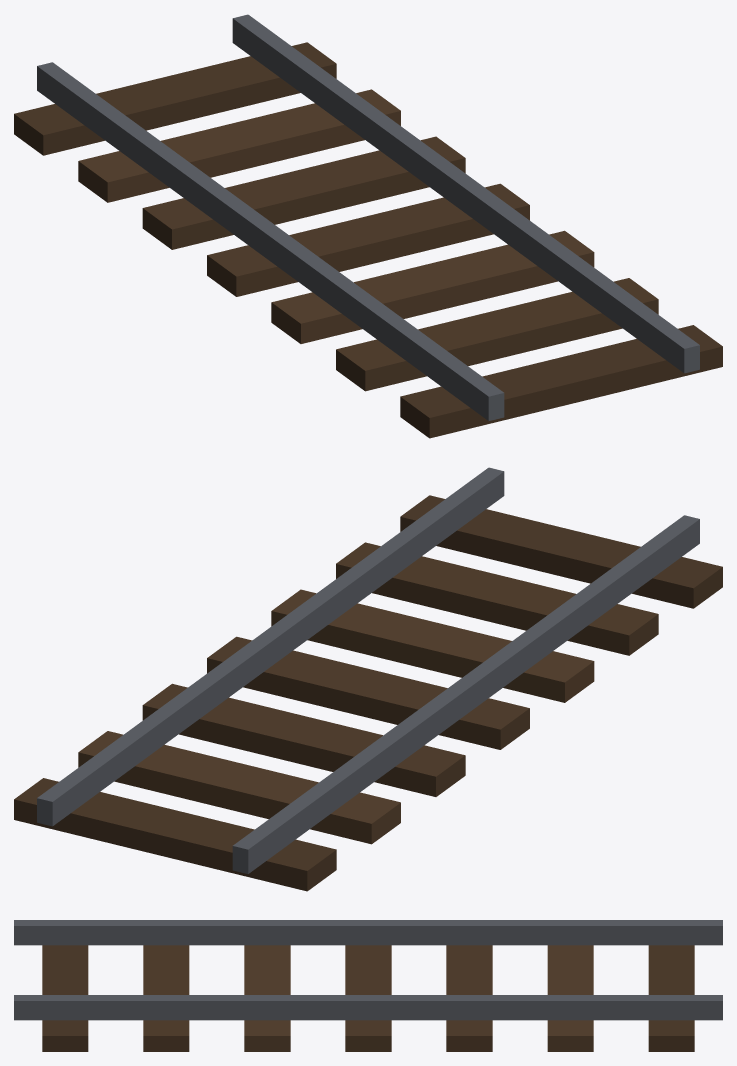
Rendered from rail-straight.glb.
3 views of the same model, one above another, from view 1: azimuth 30°, elevation 25°; view 2: azimuth 150°, elevation 25°; view 3: azimuth 270°, elevation 25° (orthographic). The views are drawn at different scales.
Parts seen in each view (by area): view 1: rail-straight; view 2: rail-straight; view 3: rail-straight.
Part boxes in pixels (box(x1,y1,x2,y2)): rail-straight: box(14, 14, 722, 438); rail-straight: box(14, 467, 722, 891); rail-straight: box(14, 920, 722, 1051).
Size of the model in its own units: 1.5 by 0.22 by 4.
